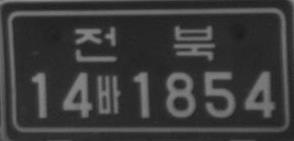1: (26, 71, 55, 118), (128, 71, 157, 118)
4: (243, 70, 276, 117), (62, 71, 92, 117)
5: (203, 70, 236, 118)
8: (165, 70, 197, 118)
바: (96, 75, 121, 114)
전북_D: (74, 24, 215, 61)
